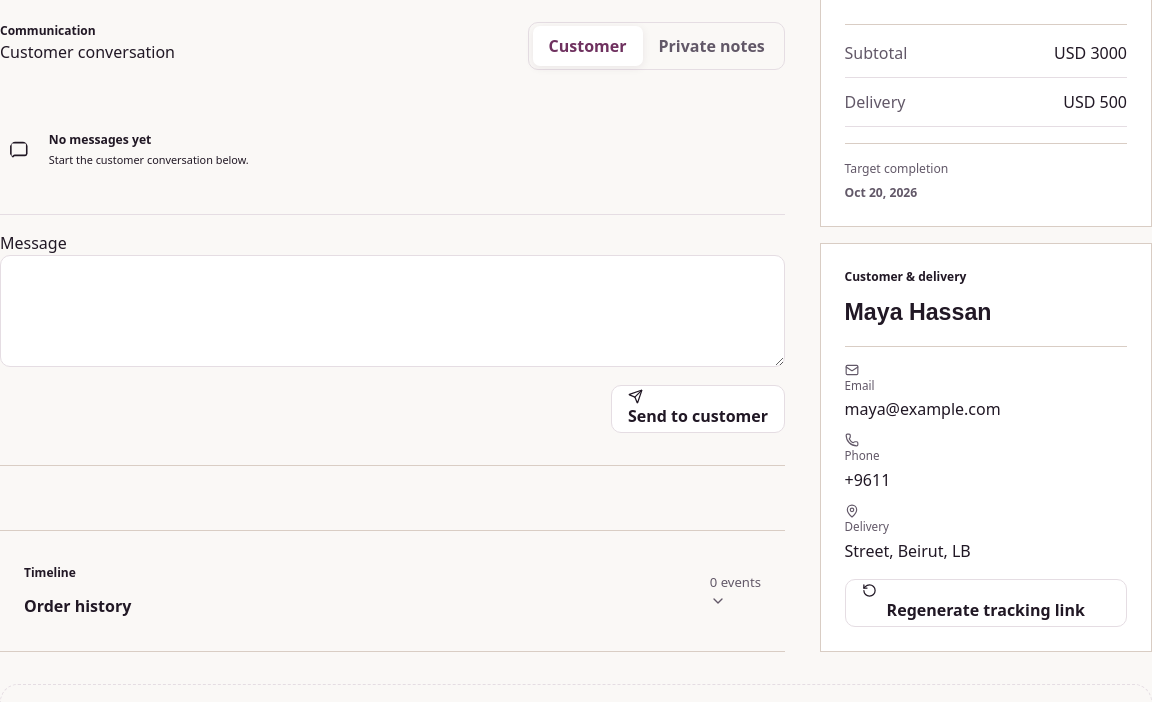
Test: regenerate result stays visible if the follow-up reload fails
(page scrolled)
Click the button "Regenerate tracking link" at (986, 603), box top-left (844, 579), bottom-right (1127, 627)
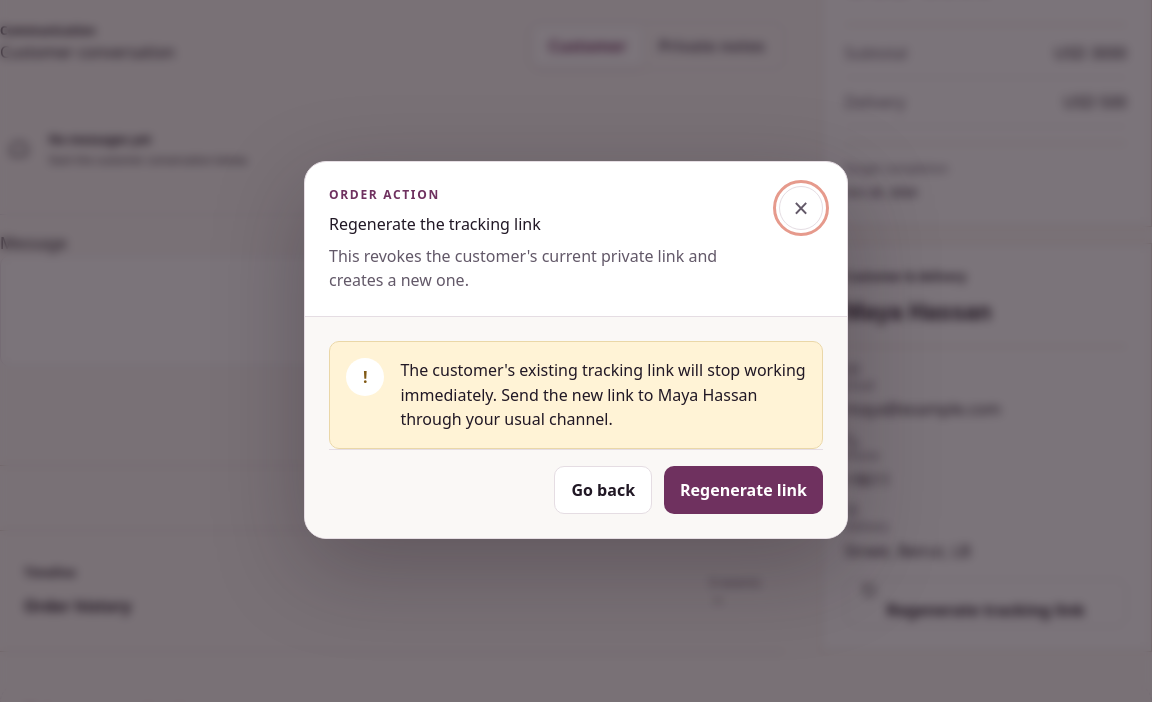
Click the button "Regenerate link" at (744, 490), box top-left (664, 466), bottom-right (823, 514)
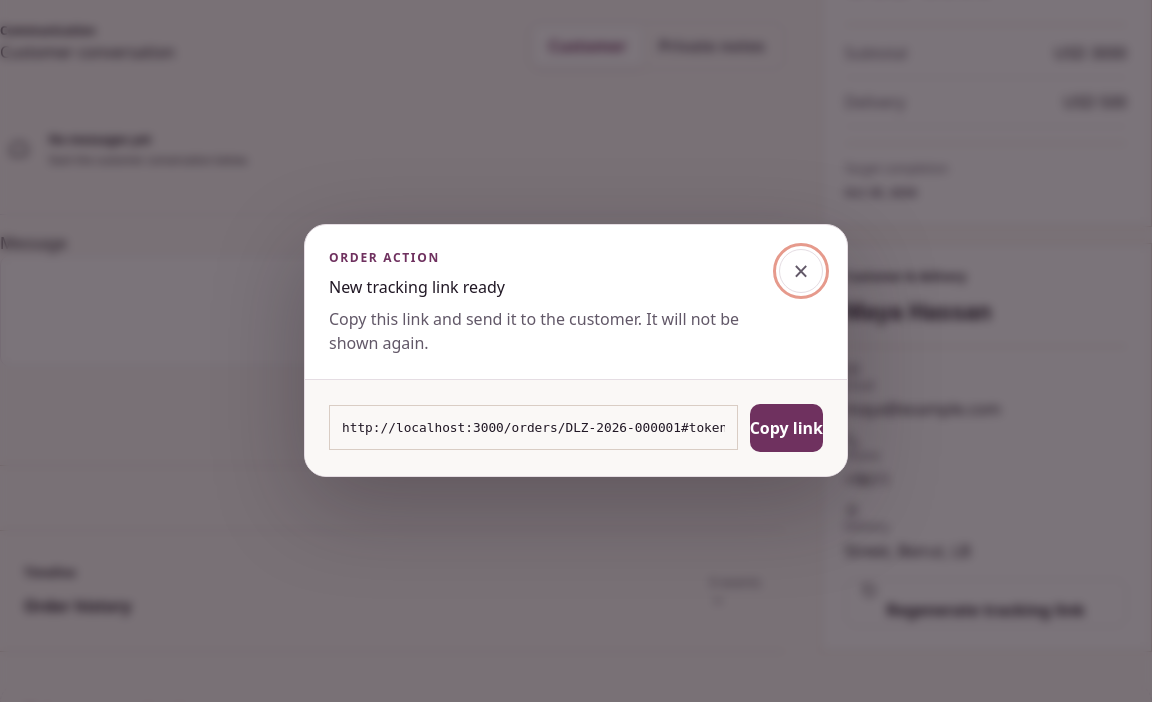
Expected: the field showing "http://localhost:3000/orders/DLZ-2026-000001#token=fresh-token" is shown, top-left (329, 405), bottom-right (738, 450)
Expected: the dialog "New tracking link ready" is shown, top-left (304, 224), bottom-right (848, 476)
